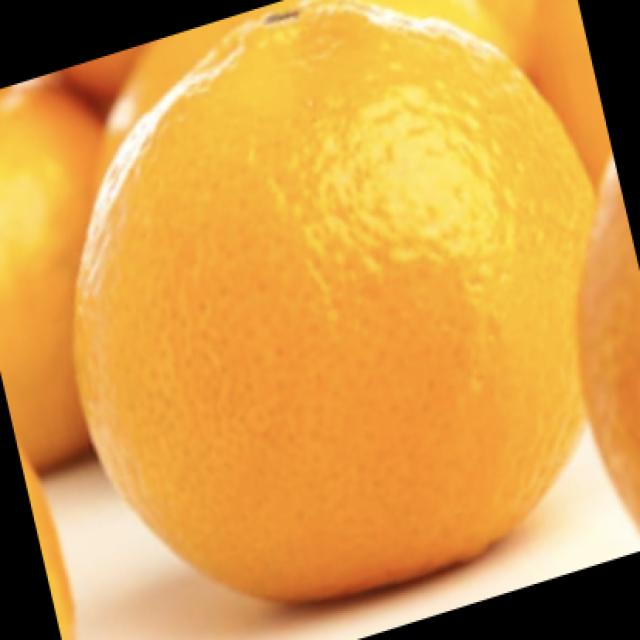matang: (75, 0, 586, 603), (581, 151, 640, 550)
